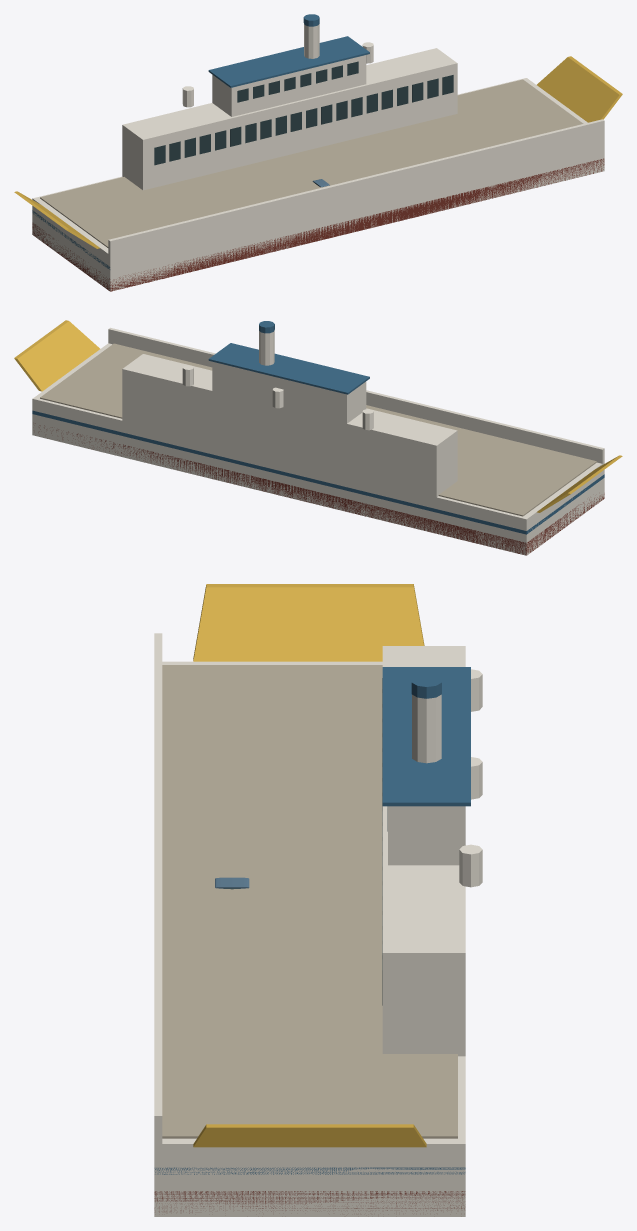
File: arabali-feribot.glb
3 renders of one model, top to bottom at view 1: azimuth 30°, elevation 25°; view 2: azimuth 150°, elevation 25°; view 3: azimuth 270°, elevation 25°, orthographic. The views are drawn at different scales.
Visible parts, largest first — view 1: tekne_beyaz, beton2, karina, cam, tekne_mavi, tekne_sari, beyaz; view 2: tekne_beyaz, beton2, tekne_mavi, karina, tekne_sari, beyaz; view 3: beton2, tekne_beyaz, tekne_sari, tekne_mavi, karina, beyaz.
Part boxes in pixels (box(x1,y1,x2,y2)): tekne_beyaz: box(32, 24, 604, 291); beton2: box(40, 79, 583, 247); karina: box(32, 158, 604, 291); cam: box(154, 61, 453, 185); tekne_mavi: box(32, 14, 369, 269); tekne_sari: box(14, 56, 622, 248); beyaz: box(182, 42, 373, 107); tekne_beyaz: box(32, 327, 604, 555); beton2: box(40, 343, 596, 516); tekne_mavi: box(32, 321, 604, 534); karina: box(35, 423, 604, 555); tekne_sari: box(14, 320, 622, 512); beyaz: box(182, 365, 373, 430); beton2: box(162, 665, 457, 1138); tekne_beyaz: box(154, 633, 465, 1216); tekne_sari: box(193, 584, 426, 1147); tekne_mavi: box(154, 667, 470, 1174); karina: box(154, 1191, 465, 1213); beyaz: box(459, 669, 482, 887).
Size of the model in its own units: 49.6 by 13.5 by 12.65.
